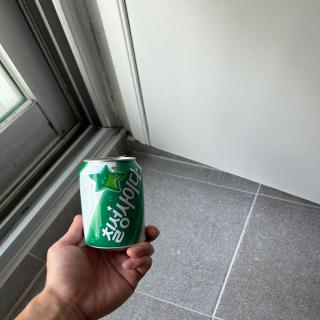cocacola: (75, 155, 149, 251)
